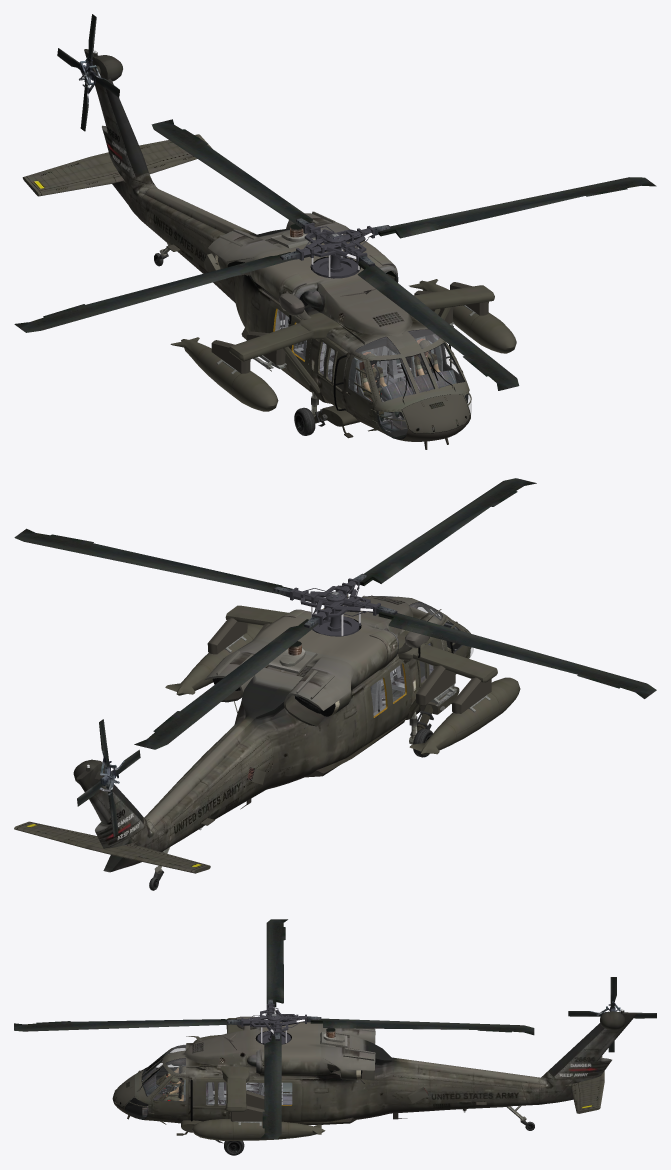
The picture shows the model from 3 angles, top to bottom: view 1: azimuth 30°, elevation 25°; view 2: azimuth 150°, elevation 25°; view 3: azimuth 270°, elevation 25°; orthographic projection. The views are drawn at different scales.
Parts seen in each view (by area): view 1: Object_10, Object_6, Object_9, Object_2, Object_7, Object_8; view 2: Object_10, Object_6, Object_2, Object_9; view 3: Object_10, Object_6, Object_2, Object_9, Object_7.
Part boxes in pixels (bbox=[...]): Object_10: bbox=[22, 49, 516, 449]; Object_6: bbox=[14, 14, 656, 417]; Object_9: bbox=[274, 309, 471, 438]; Object_2: bbox=[280, 218, 440, 421]; Object_7: bbox=[319, 329, 468, 439]; Object_8: bbox=[322, 330, 439, 418]; Object_10: bbox=[14, 593, 520, 890]; Object_6: bbox=[14, 478, 656, 836]; Object_2: bbox=[273, 573, 453, 652]; Object_9: bbox=[371, 620, 473, 716]; Object_10: bbox=[112, 1010, 637, 1155]; Object_6: bbox=[14, 919, 656, 1139]; Object_2: bbox=[156, 999, 321, 1101]; Object_9: bbox=[126, 1056, 291, 1118]; Object_7: bbox=[126, 1045, 292, 1120].
Bounding box in the file's own units: 2.02 × 0.664 × 2.5.
10 materials, 7 textured.
